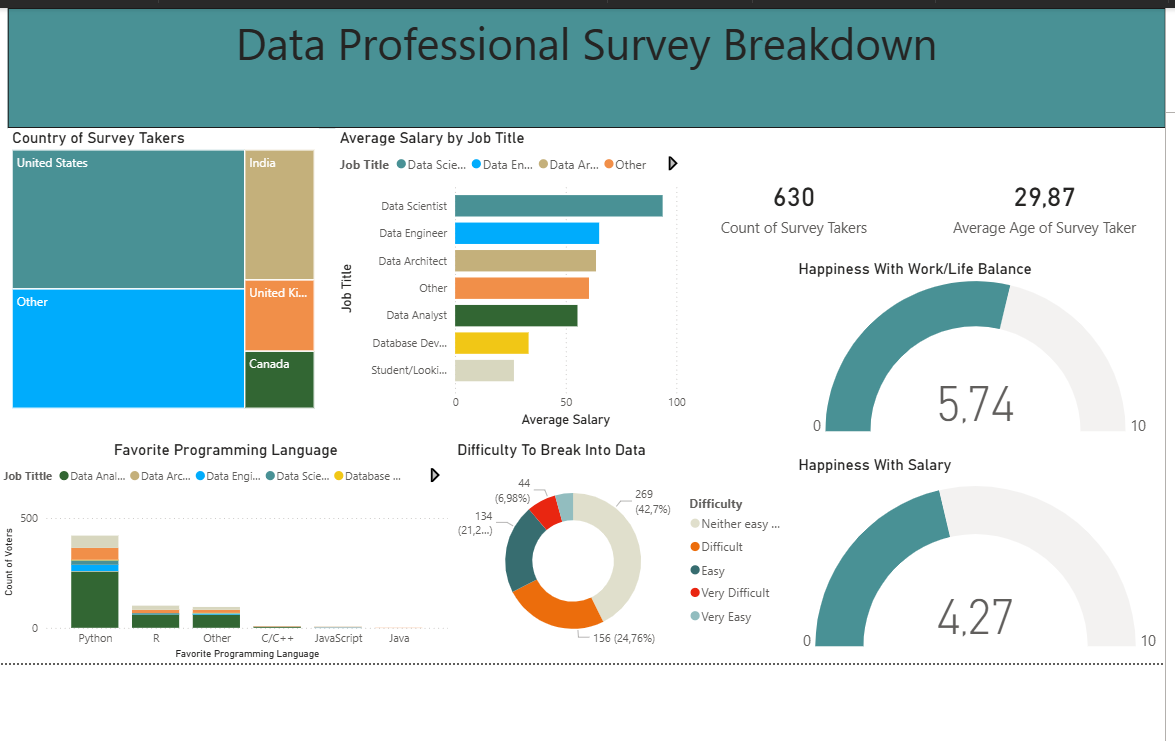

This screenshot's page, from the dashboard's own definition file:
{"tool":"powerbi","page":{"name":"Page 1","canvas":[1280,720],"ordinal":0},"visuals":[{"type":"textbox","box":[9.6,0,1270.7,131.7],"z":0},{"type":"card","fields":{"Values":["Count(Data Professional Survey.Unique ID)"]},"box":[730,131.7,285.4,168.8],"z":1},{"type":"card","fields":{"Values":["Avg(Data Professional Survey.Q10 - Current Age)"]},"box":[1015.4,131.7,264.8,168.8],"z":2},{"type":"barChart","title":"Average Salary by Job Title","fields":{"Category":["Data Professional Survey.Q1 - Which Title Best Fits your Current Role?.1"],"Y":["Avg(Data Professional Survey.Average Salary)"],"Series":["Data Professional Survey.Q1 - Which Title Best Fits your Current Role?.1"]},"box":[369.1,131.7,389.7,333.4],"z":3},{"type":"columnChart","title":"Favorite Programming Language","fields":{"Category":["Data Professional Survey.Q5 - Favorite Programming Language.1"],"Y":["CountNonNull(Data Professional Survey.Unique ID)"],"Series":["Data Professional Survey.Q1 - Which Title Best Fits your Current Role?.1"]},"box":[0,474.8,498.1,245.6],"z":4},{"type":"treemap","title":"Country of Survey Takers","fields":{"Group":["Data Professional Survey.Q11 - Which Country do you live in?.1"],"Values":["CountNonNull(Data Professional Survey.Q11 - Which Country do you live in?.1)"]},"box":[9.6,131.7,341.7,312.9],"z":5},{"type":"gauge","title":"Happiness With Work/Life Balance ","fields":{"Y":["Avg(Data Professional Survey.Q6 - How Happy are you in your Current Position with the following? (Work/Life Balance))"],"MinValue":["Min(Data Professional Survey.Q6 - How Happy are you in your Current Position with the following? (Work/Life Balance))1"],"MaxValue":["Max(Data Professional Survey.Q6 - How Happy are you in your Current Position with the following? (Work/Life Balance))2"]},"box":[872.7,275.8,407.5,199],"z":6},{"type":"gauge","title":"Happiness With Salary","fields":{"Y":["Avg(Data Professional Survey.Q6 - How Happy are you in your Current Position with the following? (Salary))"],"MinValue":["Min(Data Professional Survey.Q6 - How Happy are you in your Current Position with the following? (Salary))"],"MaxValue":["Max(Data Professional Survey.Q6 - How Happy are you in your Current Position with the following? (Salary))"]},"box":[872.7,491.3,407.5,229.2],"z":7},{"type":"donutChart","title":"Difficulty To Break Into Data","fields":{"Category":["Data Professional Survey.Q7 - How difficult was it for you to break into Data?"],"Y":["CountNonNull(Data Professional Survey.Q7 - How difficult was it for you to break into Data?)"]},"box":[498.1,474.8,374.6,245.6],"z":8}]}

Visuals, with their boxes in screenshot pixels (x1, y1, x2, y2):
textbox: [12, 6, 1162, 125]
card - Count(Data Professional Survey.Unique ID): [664, 125, 922, 278]
card - Avg(Data Professional Survey.Q10 - Current Age): [922, 125, 1162, 278]
"Average Salary by Job Title" barChart: [337, 125, 690, 427]
"Favorite Programming Language" columnChart: [3, 436, 454, 658]
"Country of Survey Takers" treemap: [12, 125, 321, 409]
"Happiness With Work/Life Balance " gauge: [793, 256, 1162, 436]
"Happiness With Salary" gauge: [793, 451, 1162, 658]
"Difficulty To Break Into Data" donutChart: [454, 436, 793, 658]
